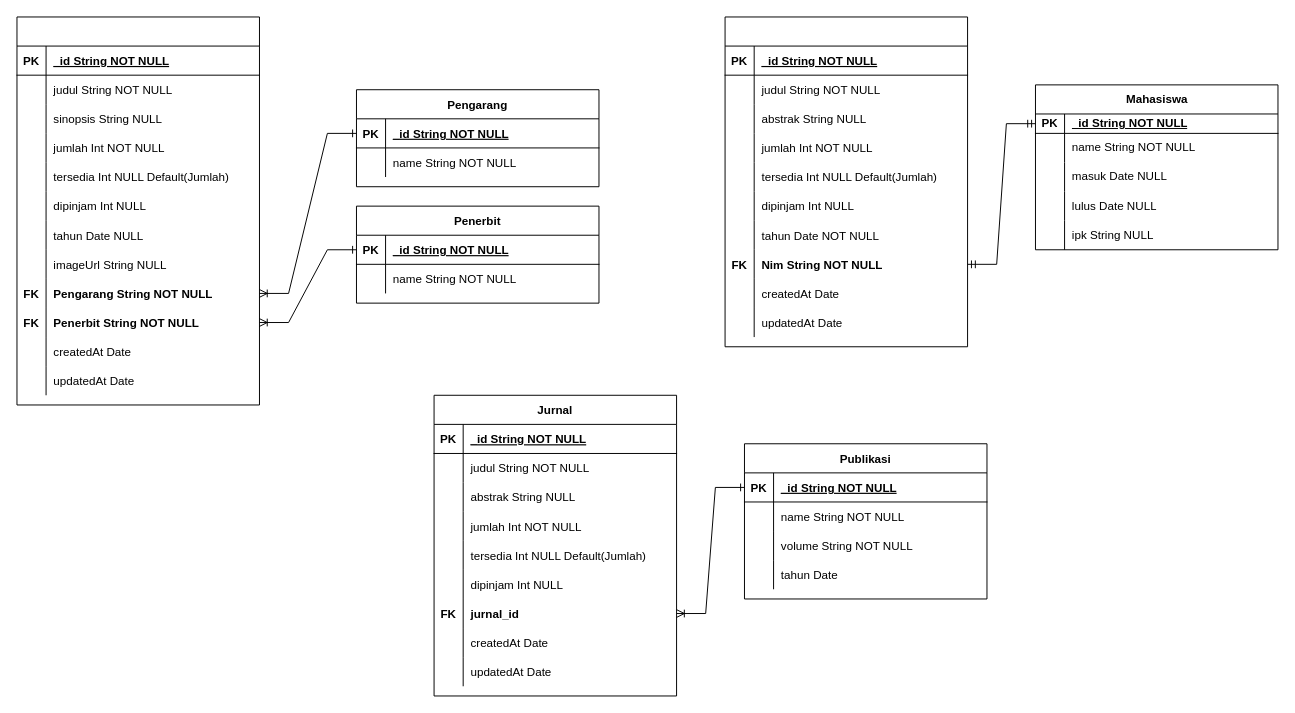
Some shapes in this 1295 by 713 pixel diagram are drawn without their labels. The box of each missing label's shape, as (x1, y1, x2, y2) in pixels:
Buku: (16, 16, 259, 405)
Skripsi: (724, 16, 968, 347)
